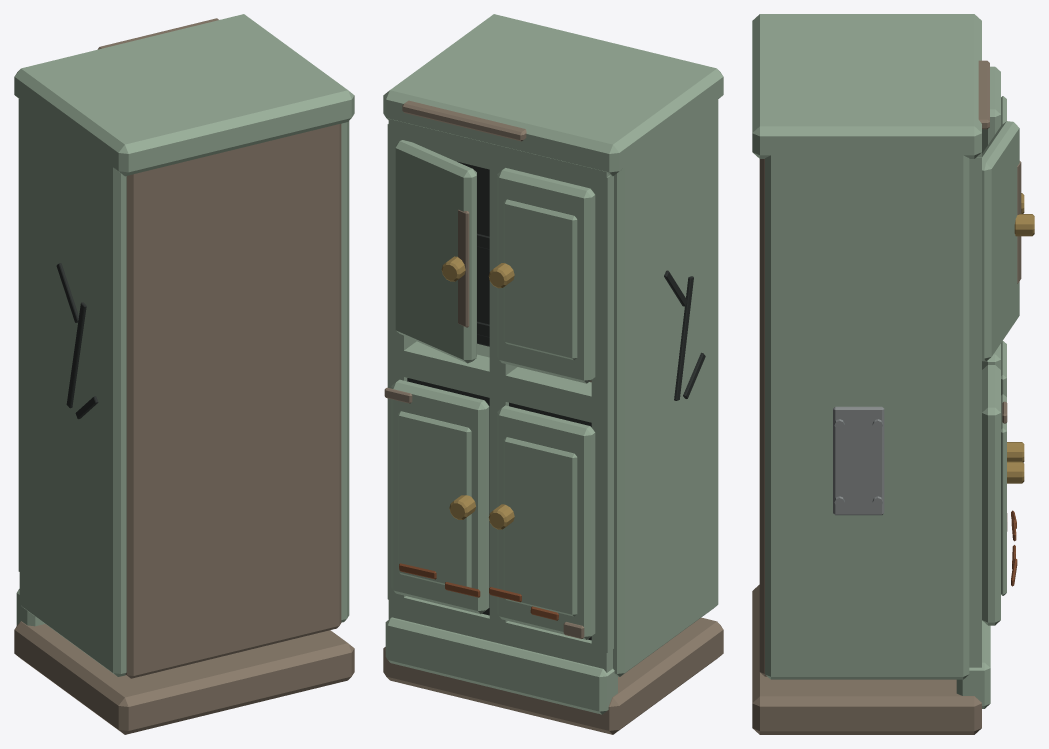
Rendered from cabinet.glb.
The picture shows the model from 3 angles, left to right: view 1: azimuth 30°, elevation 25°; view 2: azimuth 150°, elevation 25°; view 3: azimuth 270°, elevation 25°; orthographic projection. The views are drawn at different scales.
Parts seen in each view (by area): view 1: cabinet; view 2: cabinet; view 3: cabinet.
Boxes of the visible parts, box(x1,y1,x2,y2) form: cabinet: box(14, 14, 354, 734); cabinet: box(383, 14, 723, 734); cabinet: box(752, 14, 1034, 734).
Bounding box in the file's own units: 0.6875 × 1.58 × 0.6635.
